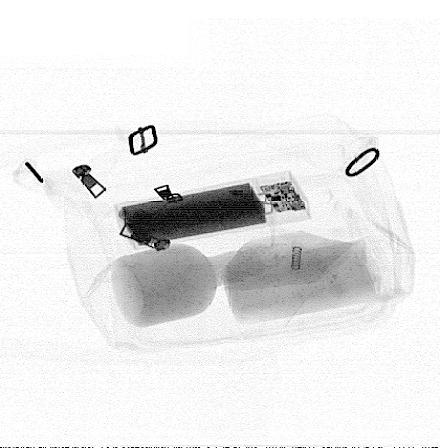Powerbank: (114, 169, 310, 251)
